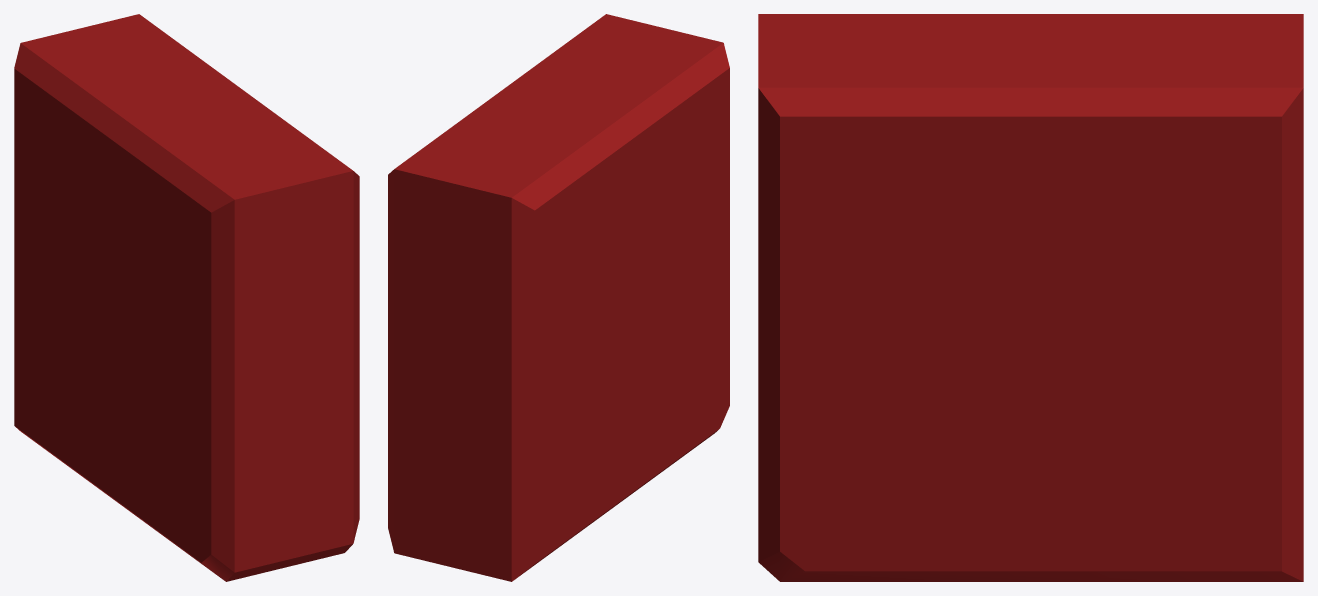
The model's file is SM_Wall_50x50.FBX.
The picture shows the model from 3 angles, left to right: view 1: azimuth 30°, elevation 25°; view 2: azimuth 150°, elevation 25°; view 3: azimuth 270°, elevation 25°; orthographic projection. The views are drawn at different scales.
Parts seen in each view (by area): view 1: Wall_50x50; view 2: Wall_50x50; view 3: Wall_50x50.
Boxes of the visible parts, box(x1,y1,x2,y2) form: Wall_50x50: box(14, 14, 359, 581); Wall_50x50: box(388, 14, 729, 581); Wall_50x50: box(758, 14, 1303, 581).
Bounding box in the file's own units: 20 × 50 × 50.
